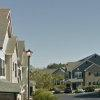Tree: (43, 57, 66, 68)
